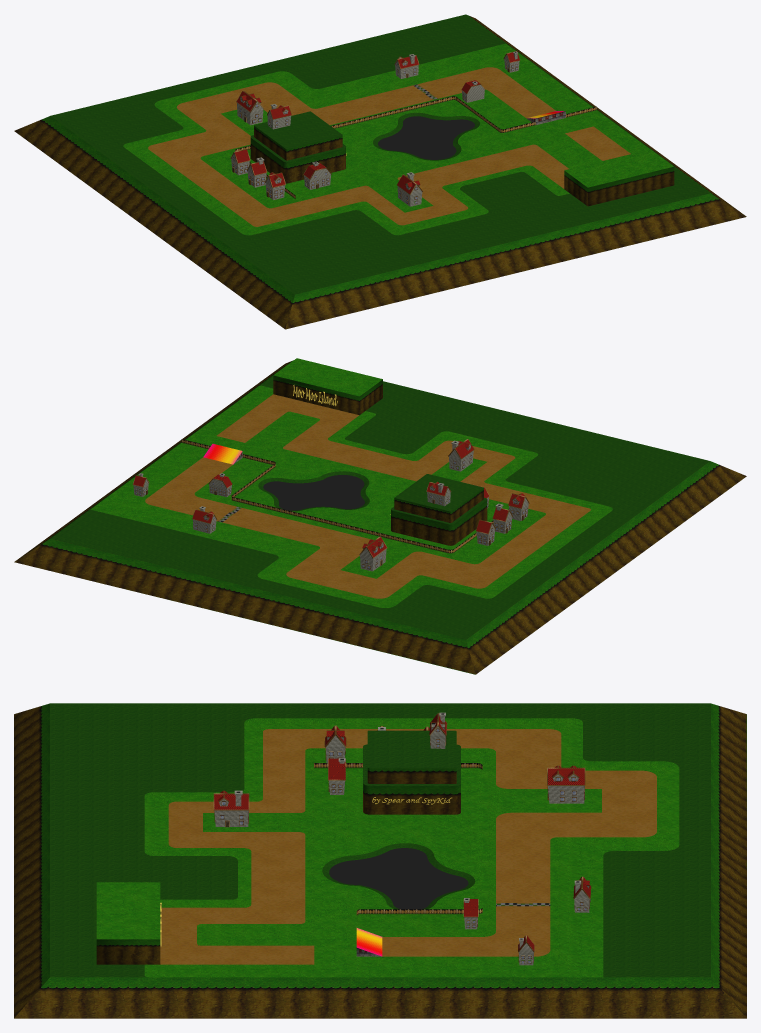
3 renders of one model, top to bottom at view 1: azimuth 30°, elevation 25°; view 2: azimuth 150°, elevation 25°; view 3: azimuth 270°, elevation 25°, orthographic. The views are drawn at different scales.
Visible parts, largest first — view 1: race-SKP-grass_solidfall, race-SKP-mat3, race-SKP-grass, race-SKP-mat5, race-SKP-Default_Material, race-SKP-fence; view 2: race-SKP-grass_solidfall, race-SKP-mat3, race-SKP-grass, race-SKP-mat5, race-SKP-Default_Material, race-SKP-fence; view 3: race-SKP-grass_solidfall, race-SKP-grass, race-SKP-mat3, race-SKP-mat5, race-SKP-Default_Material, race-SKP-fence, race-COM-Rooster_Island_House_1_1-83936-MarioHouseBrick, race-COM-Rooster_Island_House_2_1-83938-MarioHouseBrick, race-SKP-boost, race-COM-Rooster_Island_House_2_1-83938-MarioHouseRoof.
Boxes of the visible parts, bbox=[...] form: race-SKP-grass_solidfall: bbox=[51, 14, 709, 294]; race-SKP-mat3: bbox=[14, 14, 746, 329]; race-SKP-grass: bbox=[123, 43, 673, 235]; race-SKP-mat5: bbox=[148, 67, 630, 226]; race-SKP-Default_Material: bbox=[378, 116, 474, 159]; race-SKP-fence: bbox=[235, 96, 596, 198]; race-SKP-grass_solidfall: bbox=[51, 376, 709, 639]; race-SKP-mat3: bbox=[14, 360, 746, 674]; race-SKP-grass: bbox=[90, 358, 612, 607]; race-SKP-mat5: bbox=[145, 394, 590, 598]; race-SKP-Default_Material: bbox=[263, 475, 364, 510]; race-SKP-fence: bbox=[181, 439, 509, 553]; race-SKP-grass_solidfall: bbox=[50, 703, 710, 977]; race-SKP-grass: bbox=[96, 718, 679, 977]; race-SKP-mat3: bbox=[14, 703, 746, 1018]; race-SKP-mat5: bbox=[160, 729, 656, 964]; race-SKP-Default_Material: bbox=[329, 848, 468, 909]; race-SKP-fence: bbox=[314, 763, 482, 915]; race-COM-Rooster_Island_House_1_1-83936-MarioHouseBrick: bbox=[214, 790, 248, 826]; race-COM-Rooster_Island_House_2_1-83938-MarioHouseBrick: bbox=[548, 774, 584, 803]; race-SKP-boost: bbox=[356, 928, 382, 956]; race-COM-Rooster_Island_House_2_1-83938-MarioHouseRoof: bbox=[548, 766, 584, 784].
Size of what is drawn, in the model's own units: 102455 by 15305 by 104266.
17 materials, 17 textured.
